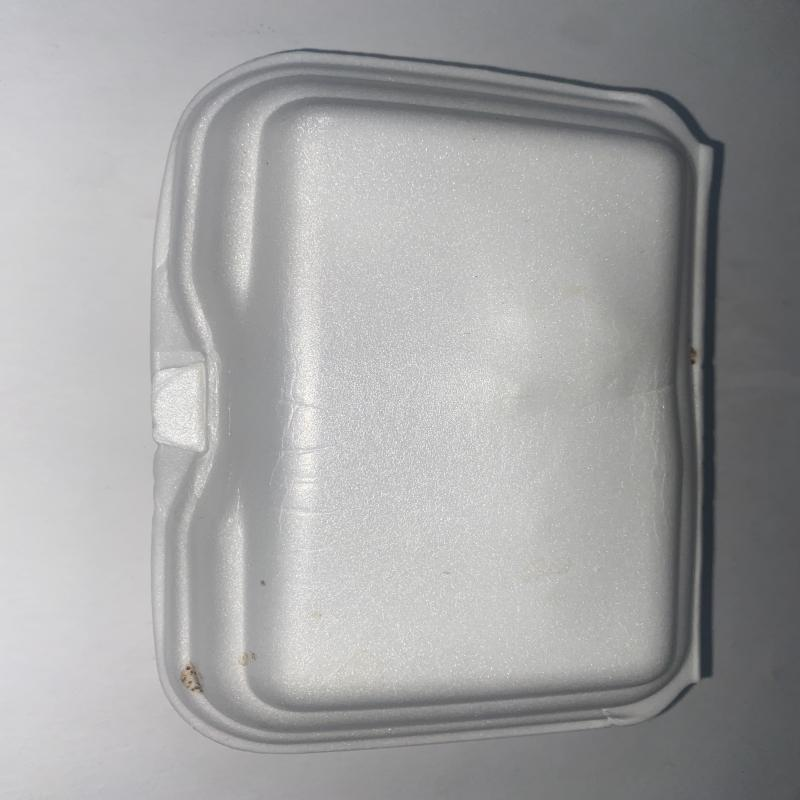styrofoam containers: (147, 48, 727, 758)
